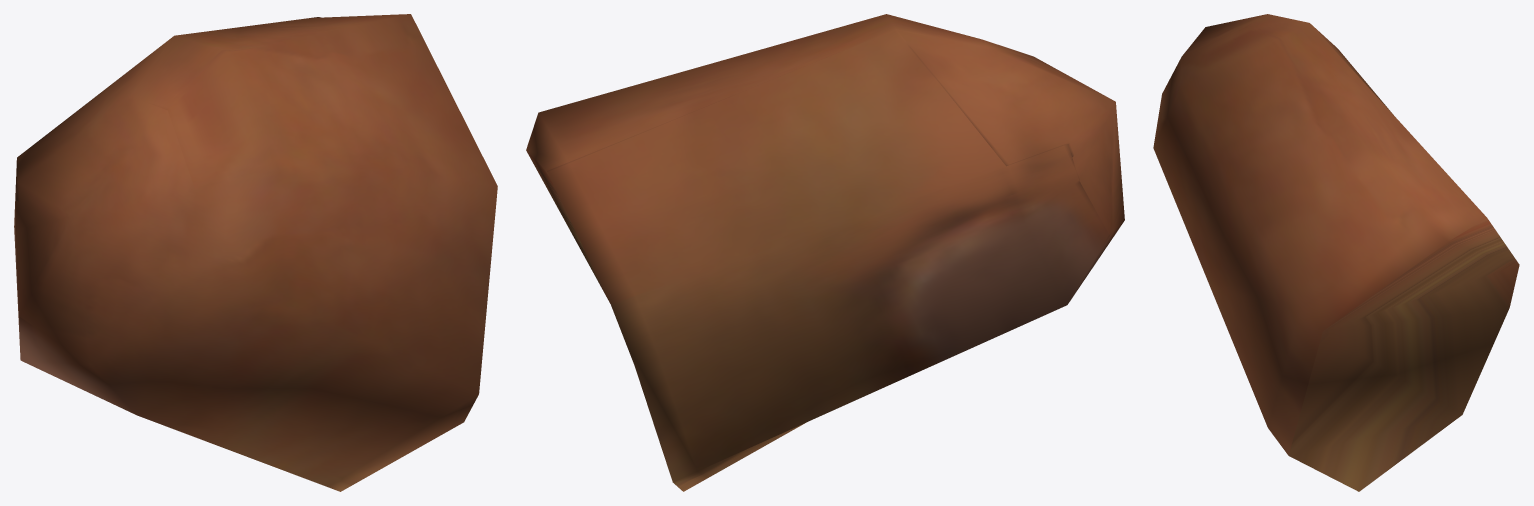
The model's file is thumb_03_l.dae.
The picture shows the model from 3 angles, left to right: view 1: azimuth 30°, elevation 25°; view 2: azimuth 150°, elevation 25°; view 3: azimuth 270°, elevation 25°; orthographic projection. The views are drawn at different scales.
Visible parts, largest first — view 1: thumb_3_l; view 2: thumb_3_l; view 3: thumb_3_l.
Part boxes in pixels (box(x1,y1,x2,y2)): thumb_3_l: box(14, 14, 497, 491); thumb_3_l: box(526, 14, 1124, 491); thumb_3_l: box(1153, 14, 1519, 491).
Size of the model in its own units: 0.0299 by 0.0246 by 0.0294.
Materials: 1 (1 with a texture image).
